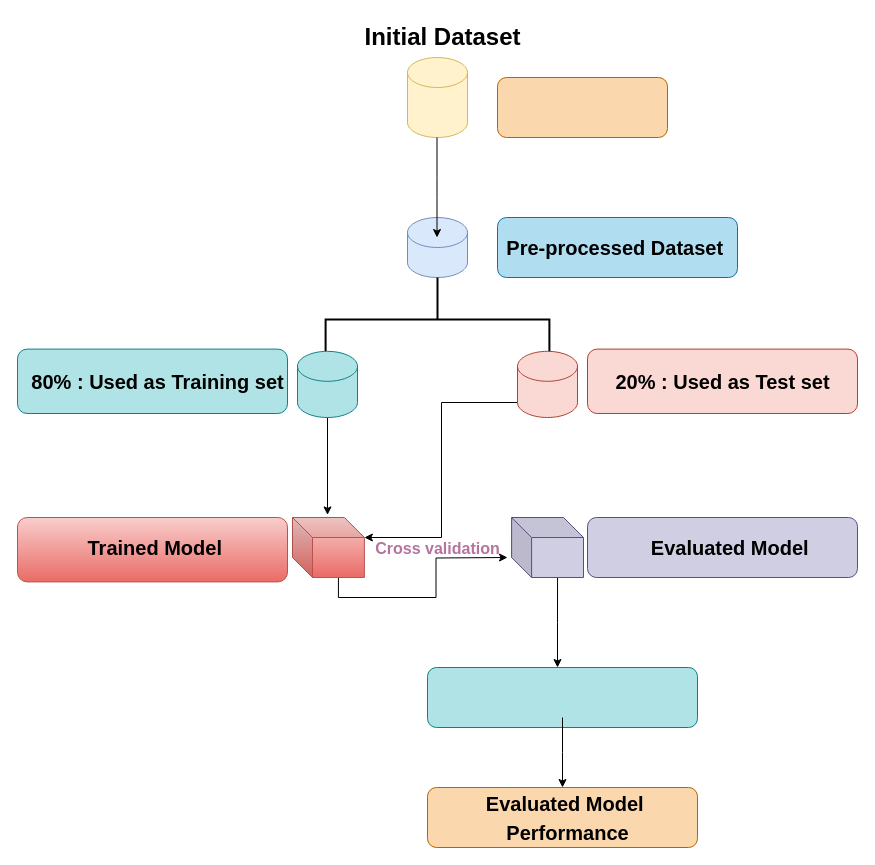
The diagram is 875 pixels wide and 865 high, and some of its shapes have lost their labels. The centre of each missing label's shape, as x and y in pixels:
"(Data Wrangling)" goes at point 582,107.
"Predicted Y Values" goes at point 562,697.
